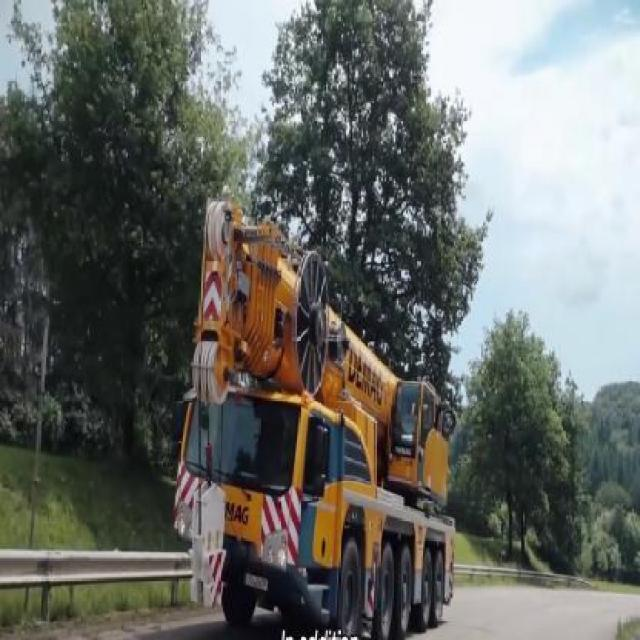Mobile Crane: (177, 201, 452, 639)
